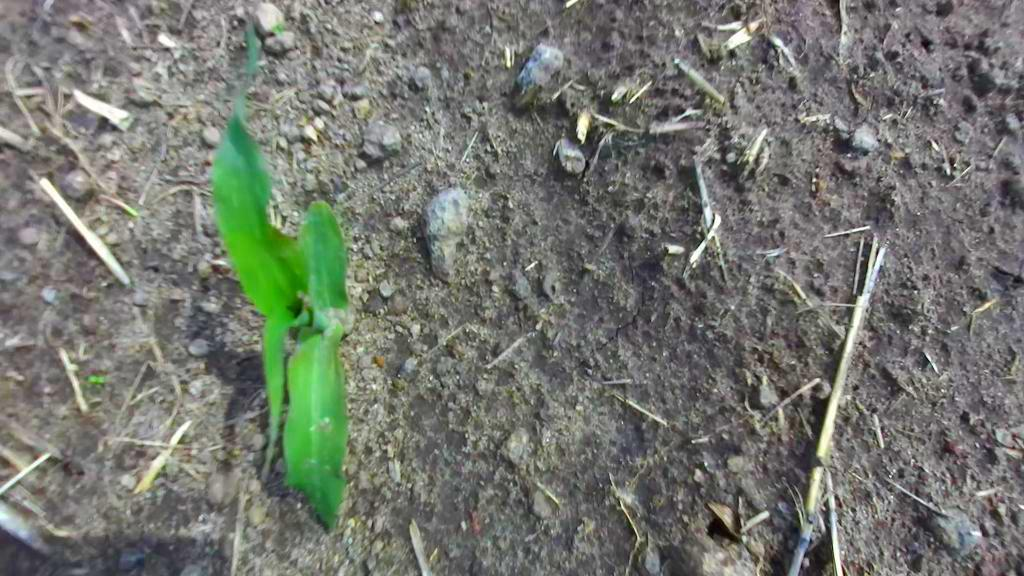BroWeed: (704, 489, 751, 542), (96, 189, 142, 219), (196, 251, 214, 280), (209, 252, 231, 272), (99, 272, 117, 290), (228, 269, 242, 282), (88, 375, 106, 384)
Maize: (180, 5, 397, 547)
